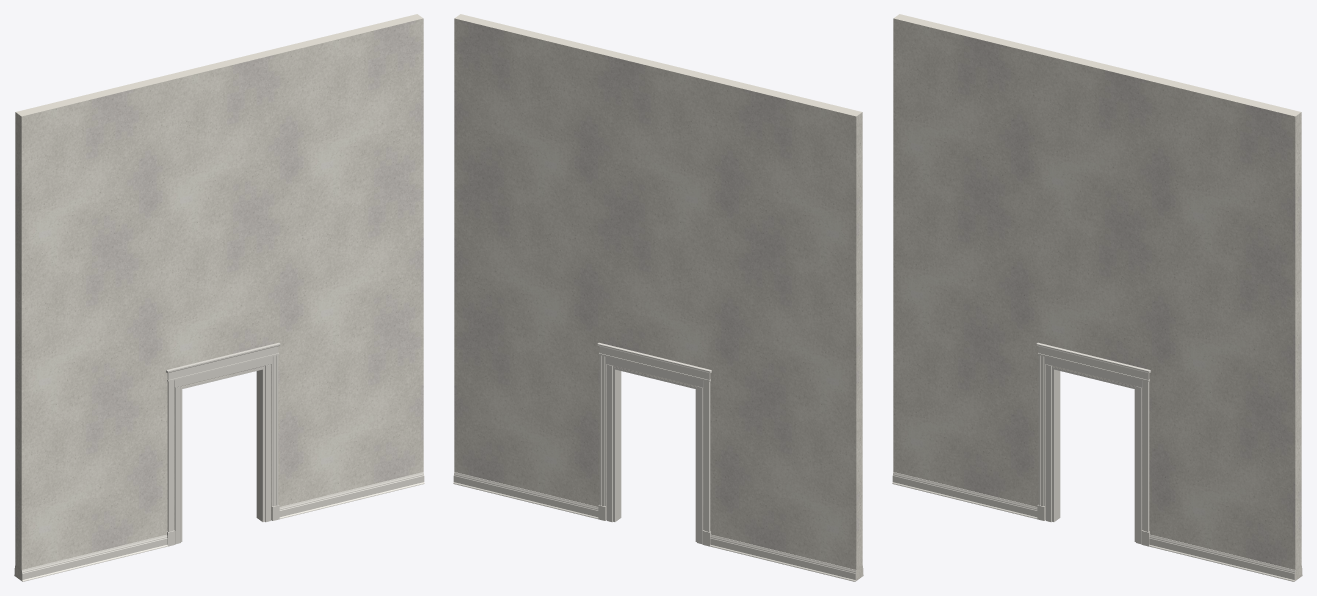
The picture shows the model from 3 angles, left to right: view 1: azimuth 30°, elevation 25°; view 2: azimuth 150°, elevation 25°; view 3: azimuth 330°, elevation 25°; orthographic projection.
Visible parts, largest first — view 1: pw_570_285_120_plaster, molduras, pw_570_285_120_frame; view 2: pw_570_285_120_plaster, molduras, pw_570_285_120_frame; view 3: pw_570_285_120_plaster, molduras, pw_570_285_120_frame.
Part boxes in pixels (bbox=[...]): pw_570_285_120_plaster: bbox=[15, 14, 423, 580]; molduras: bbox=[14, 342, 424, 581]; pw_570_285_120_frame: bbox=[174, 356, 271, 544]; pw_570_285_120_plaster: bbox=[454, 14, 862, 580]; molduras: bbox=[453, 342, 863, 581]; pw_570_285_120_frame: bbox=[606, 356, 703, 544]; pw_570_285_120_plaster: bbox=[893, 14, 1301, 580]; molduras: bbox=[892, 342, 1302, 581]; pw_570_285_120_frame: bbox=[1045, 356, 1142, 544].
Bounding box in the file's own units: 5.7 × 6.3 × 0.234.
3 materials, 1 textured.
